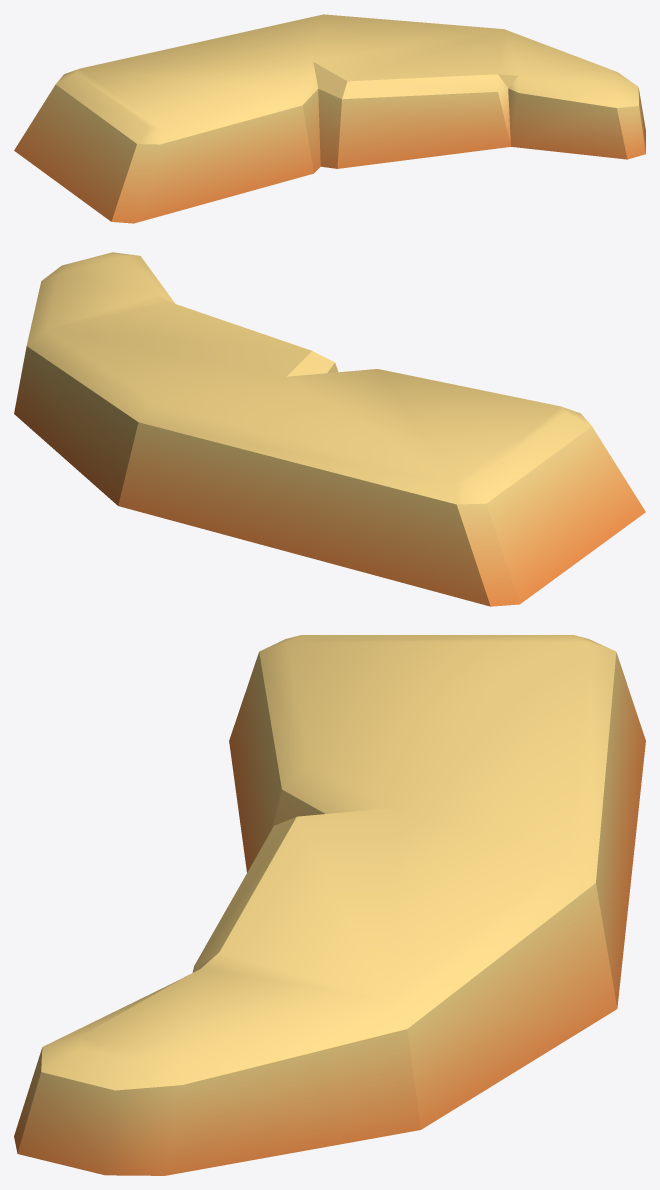
The model's file is Sand.fbx.
3 renders of one model, top to bottom at view 1: azimuth 30°, elevation 25°; view 2: azimuth 150°, elevation 25°; view 3: azimuth 270°, elevation 25°, orthographic. The views are drawn at different scales.
Parts seen in each view (by area): view 1: Sand; view 2: Sand; view 3: Sand.
Part boxes in pixels (x1,y1,x2,y2): Sand: [14, 14, 645, 223]; Sand: [14, 252, 645, 606]; Sand: [14, 635, 645, 1175].
Bounding box in the file's own units: 285 × 40.84 × 170.
Materials: 1 (1 with a texture image).
